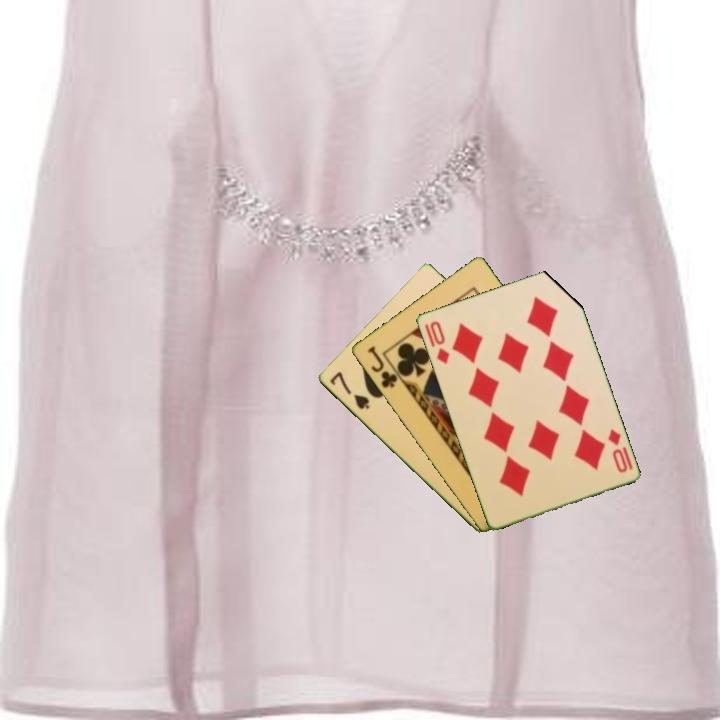10d: (421, 317, 452, 367), (604, 425, 630, 475)
7s: (326, 368, 372, 413)
Jc: (363, 342, 400, 391)
